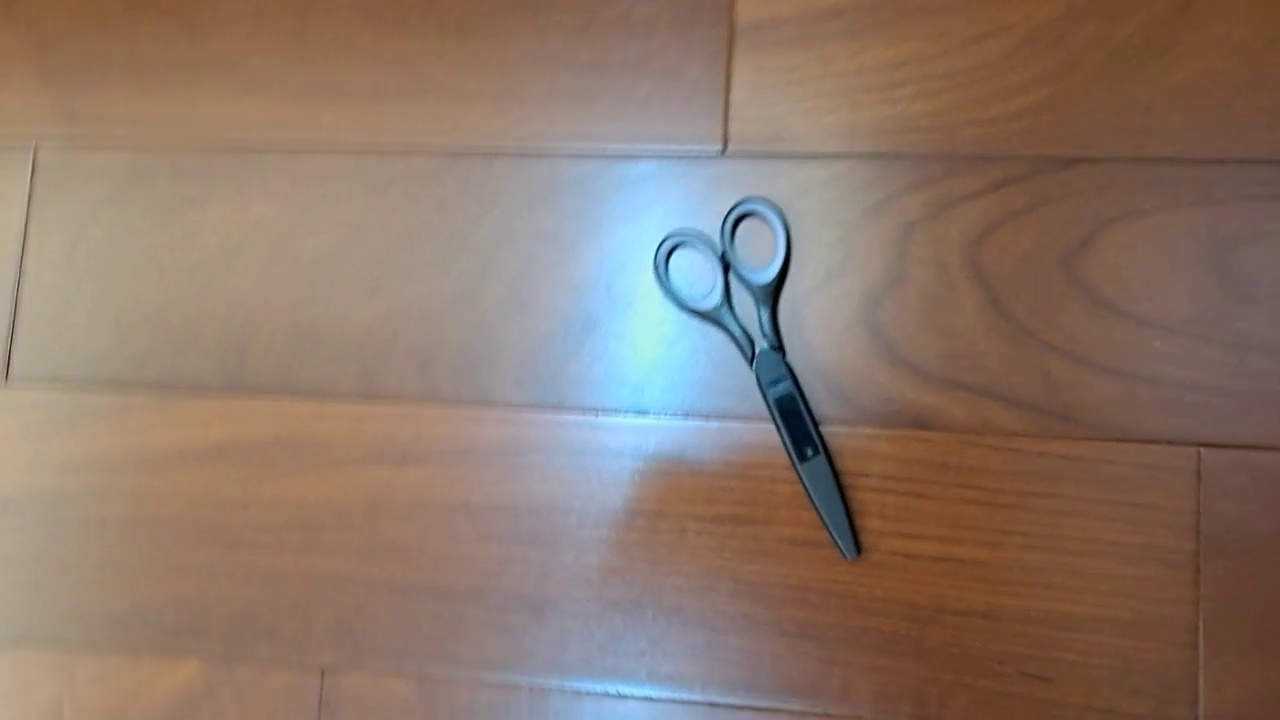scissors: (652, 194, 865, 564)
